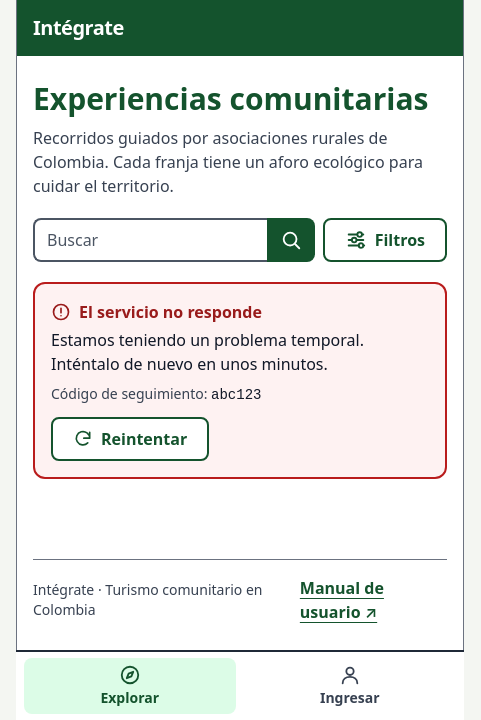
Test case: catálogo (T-1.10a) › muestra el error con código de seguimiento y permite reintentar
This screenshot has width=481, height=720.
Expected: the message shows "El servicio no responde", [79,300,262,322]
Expected: the message shows "abc123", [211,386,262,402]
Click the button "Reintentar" at (130,438), box [51,416,209,460]
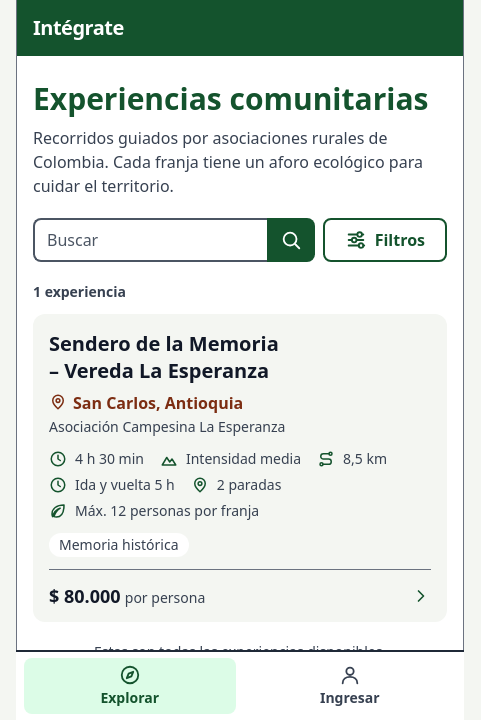
Expected: the link "Sendero de la Memoria – Vereda La Esperanza" is shown, [49,330,279,384]
